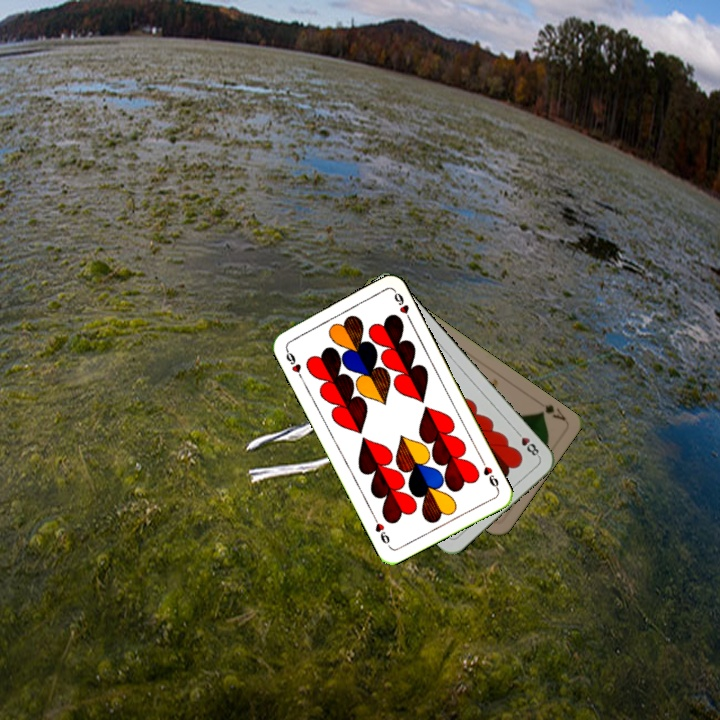GA: (536, 401, 568, 423)
H8: (511, 426, 542, 460)
H9: (477, 455, 502, 493), (282, 344, 306, 382)
